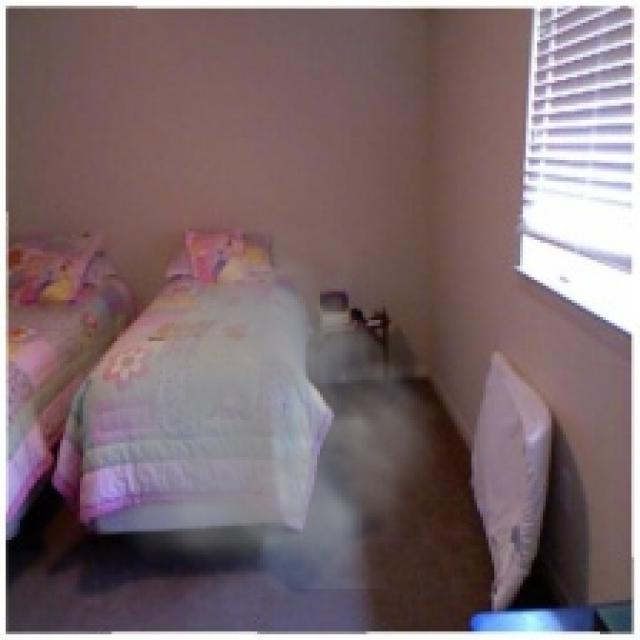smoke: (52, 212, 457, 588)
